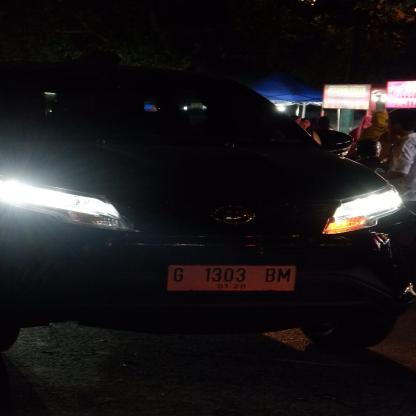Plat-Nomor: (158, 261, 298, 299)
